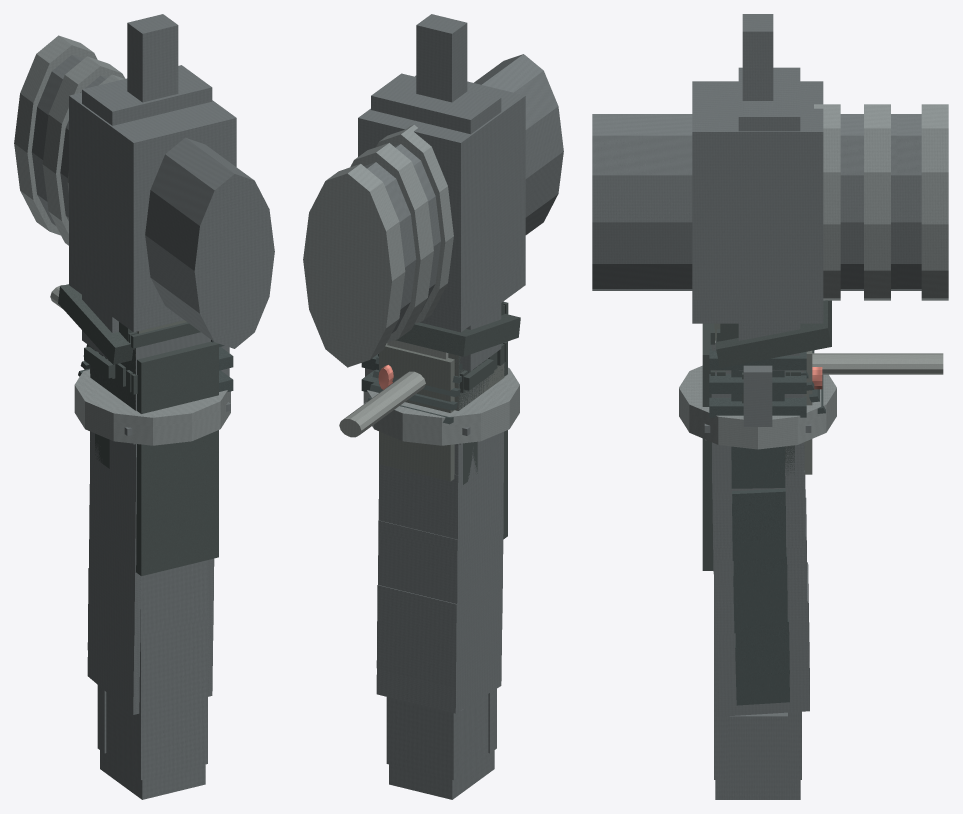
The model's file is weapon_bren2.glb.
3 renders of one model, left to right at view 1: azimuth 30°, elevation 25°; view 2: azimuth 150°, elevation 25°; view 3: azimuth 270°, elevation 25°, orthographic.
Visible parts, largest first — view 1: weapon_bren2__L0_optic__prism2, weapon_bren2__L0_optic__scope6, weapon_bren2__L1_handguard_grip__fore_bail, weapon_bren2__L0_stock__bren_stock, weapon_bren2__L1_optic__scope6, weapon_bren2__L1_optic__prism2, weapon_bren2__L0_handguard_grip__fore_bail, weapon_bren2__L0_magazine__ar556_20, weapon_bren2__L1_magazine__ar556_30, weapon_bren2__L0_handguard_light__wide_light, weapon_bren2__L1_handguard_light__wide_light, weapon_bren2__L0_optic__dot_tube (+18 smaller); view 2: weapon_bren2__L0_optic__scope6, weapon_bren2__L0_optic__prism2, weapon_bren2__L1_magazine__ar556_20, weapon_bren2__L1_optic__scope6, weapon_bren2__L0_magazine__ar556_20, weapon_bren2__L1_optic__prism2, weapon_bren2__L0_handguard_grip__fore_bail, weapon_bren2__L0_magazine__ar556_30, weapon_bren2__L1_optic__dot_tube, weapon_bren2__L0_optic__dot_tube, weapon_bren2__L0_stock__bren_stock, weapon_bren2__L0_handguard_light__wide_light (+14 smaller); view 3: weapon_bren2__L0_optic__prism2, weapon_bren2__L1_optic__prism2, weapon_bren2__L0_optic__scope6, weapon_bren2__L0_magazine__ar556_20, weapon_bren2__L0_optic__scope4, weapon_bren2__L0_magazine__ar556_30, weapon_bren2__L1_magazine__ar556_20, weapon_bren2__L1_optic__scope6, weapon_bren2__L1_handguard_grip__fore_bail, weapon_bren2__L0_optic__dot_tube, weapon_bren2__L1_magazine__ar556_30, weapon_bren2__L0_handguard_grip__fore_bail (+16 smaller).
Boxes of the visible parts, x1,y1,x2,y2 form: weapon_bren2__L0_optic__prism2: (43,57,235,328); weapon_bren2__L0_optic__scope6: (15,36,273,345); weapon_bren2__L1_handguard_grip__fore_bail: (97,560,207,799); weapon_bren2__L0_stock__bren_stock: (119,324,217,574); weapon_bren2__L1_optic__scope6: (14,35,274,348); weapon_bren2__L1_optic__prism2: (42,56,236,332); weapon_bren2__L0_handguard_grip__fore_bail: (98,562,206,793); weapon_bren2__L0_magazine__ar556_20: (88,434,135,676); weapon_bren2__L1_magazine__ar556_30: (87,431,214,714); weapon_bren2__L0_handguard_light__wide_light: (74,384,230,444); weapon_bren2__L1_handguard_light__wide_light: (74,369,230,445); weapon_bren2__L0_optic__dot_tube: (68,15,176,182); weapon_bren2__L0_optic__scope6: (304,54,561,364); weapon_bren2__L0_optic__prism2: (353,82,525,338); weapon_bren2__L1_magazine__ar556_20: (376,432,503,687); weapon_bren2__L1_optic__scope6: (303,54,563,367); weapon_bren2__L0_magazine__ar556_20: (378,432,503,684); weapon_bren2__L1_optic__prism2: (350,75,525,342); weapon_bren2__L0_handguard_grip__fore_bail: (388,689,496,793); weapon_bren2__L0_magazine__ar556_30: (378,356,502,710); weapon_bren2__L1_optic__dot_tube: (376,14,467,323); weapon_bren2__L0_optic__dot_tube: (379,15,466,374); weapon_bren2__L0_stock__bren_stock: (380,348,507,537); weapon_bren2__L0_handguard_light__wide_light: (363,370,519,444); weapon_bren2__L0_optic__prism2: (682,82,889,320); weapon_bren2__L1_optic__prism2: (681,81,890,323); weapon_bren2__L0_optic__scope6: (593,104,947,300); weapon_bren2__L0_magazine__ar556_20: (713,370,808,689); weapon_bren2__L0_optic__scope4: (649,114,863,290); weapon_bren2__L0_magazine__ar556_30: (713,370,809,714); weapon_bren2__L1_magazine__ar556_20: (712,370,809,692); weapon_bren2__L1_optic__scope6: (592,104,948,300); weapon_bren2__L1_handguard_grip__fore_bail: (714,591,801,799); weapon_bren2__L0_optic__dot_tube: (743,14,839,300); weapon_bren2__L1_magazine__ar556_30: (712,375,809,716); weapon_bren2__L0_handguard_grip__fore_bail: (714,630,800,794).
Bounding box in the file's own units: 1.74 × 9.09 × 3.85.
Materials: 3 (3 with a texture image).
